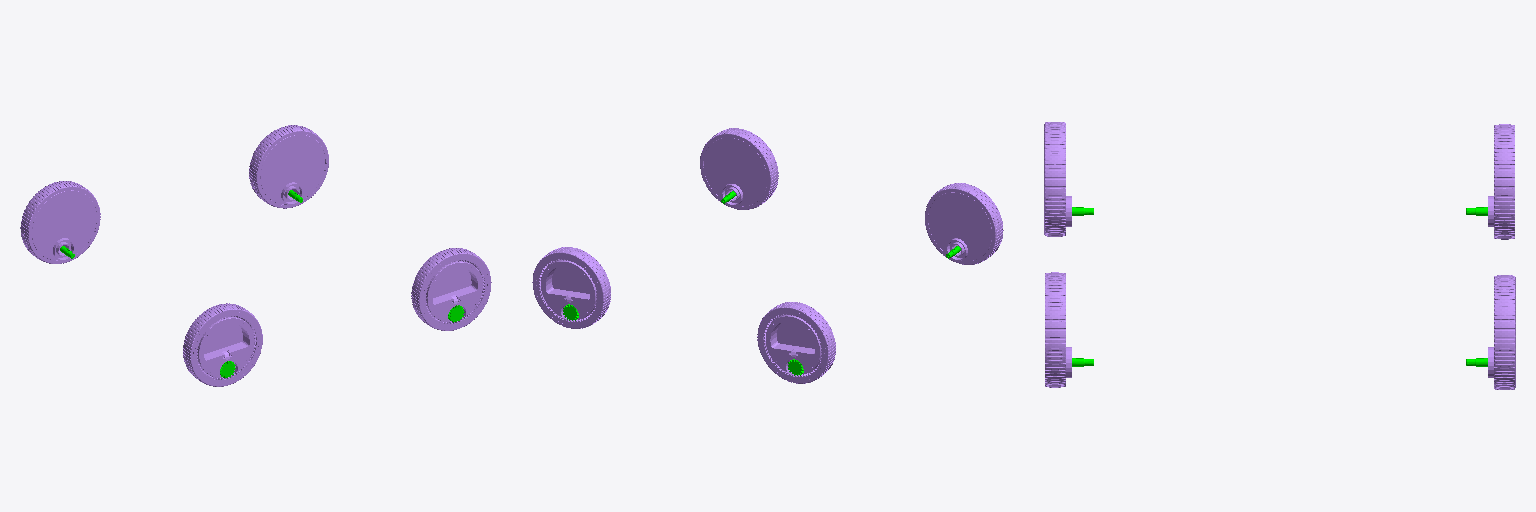
URDF robot description (ASSY):
<?xml version="1.0" encoding="utf-8"?>
<!-- This URDF was automatically created by SolidWorks to URDF Exporter! Originally created by Stephen Brawner (brawner@gmail.com) 
     Commit Version: 1.6.0-4-g7f85cfe  Build Version: 1.6.7995.38578
     For more information, please see http://wiki.ros.org/sw_urdf_exporter -->
<robot
  name="ASSY">
  <link
    name="base_link">
    <inertial>
      <origin
        xyz="-0.173677988702651 -1.33001645405301 0.127094960664252"
        rpy="0 0 0" />
      <mass
        value="4.36726752622247" />
      <inertia
        ixx="0.120130237589"
        ixy="2.47975488953441E-06"
        ixz="-3.27227207123414E-05"
        iyy="0.191286662671252"
        iyz="2.68102670008558E-10"
        izz="0.301245720968886" />
    </inertial>
    <visual>
      <origin
        xyz="0 0 0"
        rpy="0 0 0" />
      <geometry>
        <mesh
          filename="./meshes/base_link.STL" />
      </geometry>
      <material
        name="">
        <color
          rgba="0.894117647058823 0.894117647058823 0.894117647058823 1" />
      </material>
    </visual>
    <collision>
      <origin
        xyz="0 0 0"
        rpy="0 0 0" />
      <geometry>
        <mesh
          filename="./meshes/base_link.STL" />
      </geometry>
    </collision>
  </link>
  <link
    name="rear_left_wheel_link">
    <inertial>
      <origin
        xyz="0.000505290609487841 0.0115730269592083 0.00262595144799707"
        rpy="0 0 0" />
      <mass
        value="0.42269955285096" />
      <inertia
        ixx="0.000815542921585711"
        ixy="6.60524034039688E-07"
        ixz="3.86285448095543E-06"
        iyy="0.00159042388409674"
        iyz="3.46784877596443E-06"
        izz="0.000834325692195126" />
    </inertial>
    <visual>
      <origin
        xyz="0 0 0"
        rpy="0 0 0" />
      <geometry>
        <mesh
          filename="./meshes/rear_left_wheel_link.STL" />
      </geometry>
      <material
        name="">
        <color
          rgba="0.796078431372549 0.623529411764706 1 1" />
      </material>
    </visual>
    <collision>
      <origin
        xyz="0 0 0"
        rpy="0 0 0" />
      <geometry>
        <mesh
          filename="./meshes/rear_left_wheel_link.STL" />
      </geometry>
    </collision>
  </link>
  <joint
    name="rear_left_wheel_joint"
    type="continuous">
    <origin
      xyz="-0.34344 -1.0048 -0.061158"
      rpy="3.1416 0.27703 0" />
    <parent
      link="base_link" />
    <child
      link="rear_left_wheel_link" />
    <axis
      xyz="0 0 0" />
    <mimic
      joint="rear_left_pinion_joint"
      multiplier="1"
      offset="0" />
  </joint>
  <link
    name="rear_left_pinion_link">
    <inertial>
      <origin
        xyz="5.68499051833982E-07 7.63716316805052E-05 -0.014980570321381"
        rpy="0 0 0" />
      <mass
        value="0.011032733259644" />
      <inertia
        ixx="4.80829060566522E-06"
        ixy="-3.01977896111619E-11"
        ixz="1.64764447774519E-10"
        iyy="4.8095261776222E-06"
        iyz="-3.00538459560669E-08"
        izz="7.0424678545279E-07" />
    </inertial>
    <visual>
      <origin
        xyz="0 0 0"
        rpy="0 0 0" />
      <geometry>
        <mesh
          filename="./meshes/rear_left_pinion_link.STL" />
      </geometry>
      <material
        name="">
        <color
          rgba="0 1 0 1" />
      </material>
    </visual>
    <collision>
      <origin
        xyz="0 0 0"
        rpy="0 0 0" />
      <geometry>
        <mesh
          filename="./meshes/rear_left_pinion_link.STL" />
      </geometry>
    </collision>
  </link>
  <joint
    name="rear_left_pinion_joint"
    type="continuous">
    <origin
      xyz="-0.34769 -1.0078 -0.10897"
      rpy="1.5708 0.059958 -3.1416" />
    <parent
      link="base_link" />
    <child
      link="rear_left_pinion_link" />
    <axis
      xyz="0 0 0" />
  </joint>
  <link
    name="rear_right_wheel_link">
    <inertial>
      <origin
        xyz="0.000505290609487785 0.0115730269592078 0.00262595144799672"
        rpy="0 0 0" />
      <mass
        value="0.422699552850961" />
      <inertia
        ixx="0.00081554292158571"
        ixy="6.60524034039778E-07"
        ixz="3.86285448095634E-06"
        iyy="0.00159042388409674"
        iyz="3.4678487759639E-06"
        izz="0.000834325692195128" />
    </inertial>
    <visual>
      <origin
        xyz="0 0 0"
        rpy="0 0 0" />
      <geometry>
        <mesh
          filename="./meshes/rear_right_wheel_link.STL" />
      </geometry>
      <material
        name="">
        <color
          rgba="0.796078431372549 0.623529411764706 1 1" />
      </material>
    </visual>
    <collision>
      <origin
        xyz="0 0 0"
        rpy="0 0 0" />
      <geometry>
        <mesh
          filename="./meshes/rear_right_wheel_link.STL" />
      </geometry>
    </collision>
  </link>
  <joint
    name="rear_right_wheel_joint"
    type="continuous">
    <origin
      xyz="-0.35193 -1.6553 -0.061158"
      rpy="3.1416 0.27703 3.1416" />
    <parent
      link="base_link" />
    <child
      link="rear_right_wheel_link" />
    <axis
      xyz="0 0 0" />
    <mimic
      joint="rear_right_pinion_joint"
      multiplier="1"
      offset="0" />
  </joint>
  <link
    name="rear_right_pinion_link">
    <inertial>
      <origin
        xyz="5.68499051833982E-07 7.63716316804774E-05 -0.0149805703213808"
        rpy="0 0 0" />
      <mass
        value="0.011032733259644" />
      <inertia
        ixx="4.80829060566523E-06"
        ixy="-3.01977896111354E-11"
        ixz="1.6476444777162E-10"
        iyy="4.80952617762221E-06"
        iyz="-3.0053845956065E-08"
        izz="7.04246785452792E-07" />
    </inertial>
    <visual>
      <origin
        xyz="0 0 0"
        rpy="0 0 0" />
      <geometry>
        <mesh
          filename="./meshes/rear_right_pinion_link.STL" />
      </geometry>
      <material
        name="">
        <color
          rgba="0 1 0 1" />
      </material>
    </visual>
    <collision>
      <origin
        xyz="0 0 0"
        rpy="0 0 0" />
      <geometry>
        <mesh
          filename="./meshes/rear_right_pinion_link.STL" />
      </geometry>
    </collision>
  </link>
  <joint
    name="rear_right_pinion_joint"
    type="continuous">
    <origin
      xyz="-0.34769 -1.6523 -0.10897"
      rpy="1.5708 0.059958 0" />
    <parent
      link="base_link" />
    <child
      link="rear_right_pinion_link" />
    <axis
      xyz="0 0 0" />
  </joint>
  <link
    name="swing_Link">
    <inertial>
      <origin
        xyz="-0.0273355916599196 -0.0287903676176555 2.89047470403148E-08"
        rpy="0 0 0" />
      <mass
        value="1.44344385546095" />
      <inertia
        ixx="0.00529337280544807"
        ixy="-3.64864364493946E-06"
        ixz="-2.47940932052328E-06"
        iyy="0.00598687173593352"
        iyz="5.36206178033747E-10"
        izz="0.00290322324927834" />
    </inertial>
    <visual>
      <origin
        xyz="0 0 0"
        rpy="0 0 0" />
      <geometry>
        <mesh
          filename="./meshes/swing_Link.STL" />
      </geometry>
      <material
        name="">
        <color
          rgba="0.894117647058823 0.894117647058823 0.894117647058823 1" />
      </material>
    </visual>
    <collision>
      <origin
        xyz="0 0 0"
        rpy="0 0 0" />
      <geometry>
        <mesh
          filename="./meshes/swing_Link.STL" />
      </geometry>
    </collision>
  </link>
  <joint
    name="swing_joint"
    type="continuous">
    <origin
      xyz="0.15231 -1.33 0.02403"
      rpy="1.5708 0 0" />
    <parent
      link="base_link" />
    <child
      link="swing_Link" />
    <axis
      xyz="0 0 0" />
    <limit
      lower="0"
      upper="0"
      effort="0"
      velocity="0" />
  </joint>
  <link
    name="front_left_wheel_link">
    <inertial>
      <origin
        xyz="0.000505290609487868 0.011573026959208 0.00262595144799711"
        rpy="0 0 0" />
      <mass
        value="0.422699552850964" />
      <inertia
        ixx="0.000815542921585712"
        ixy="6.60524034037467E-07"
        ixz="3.86285448095665E-06"
        iyy="0.00159042388409675"
        iyz="3.46784877596432E-06"
        izz="0.000834325692195135" />
    </inertial>
    <visual>
      <origin
        xyz="0 0 0"
        rpy="0 0 0" />
      <geometry>
        <mesh
          filename="./meshes/front_left_wheel_link.STL" />
      </geometry>
      <material
        name="">
        <color
          rgba="0.796078431372549 0.623529411764706 1 1" />
      </material>
    </visual>
    <collision>
      <origin
        xyz="0 0 0"
        rpy="0 0 0" />
      <geometry>
        <mesh
          filename="./meshes/front_left_wheel_link.STL" />
      </geometry>
    </collision>
  </link>
  <joint
    name="front_left_wheel_joint"
    type="continuous">
    <origin
      xyz="0.0042466 -0.085188 -0.32525"
      rpy="1.5708 0 -0.27703" />
    <parent
      link="swing_Link" />
    <child
      link="front_left_wheel_link" />
    <axis
      xyz="0 0 0" />
    <mimic
      joint="front_left_pinion_joint"
      multiplier="1"
      offset="0" />
  </joint>
  <link
    name="front_left_pinion_link">
    <inertial>
      <origin
        xyz="5.68499051861737E-07 7.63716316805052E-05 -0.0149805703213808"
        rpy="0 0 0" />
      <mass
        value="0.0110327332596441" />
      <inertia
        ixx="4.80829060566525E-06"
        ixy="-3.01977896109501E-11"
        ixz="1.6476444779217E-10"
        iyy="4.80952617762223E-06"
        iyz="-3.00538459560686E-08"
        izz="7.04246785452799E-07" />
    </inertial>
    <visual>
      <origin
        xyz="0 0 0"
        rpy="0 0 0" />
      <geometry>
        <mesh
          filename="./meshes/front_left_pinion_link.STL" />
      </geometry>
      <material
        name="">
        <color
          rgba="0 1 0 1" />
      </material>
    </visual>
    <collision>
      <origin
        xyz="0 0 0"
        rpy="0 0 0" />
      <geometry>
        <mesh
          filename="./meshes/front_left_pinion_link.STL" />
      </geometry>
    </collision>
  </link>
  <joint
    name="front_left_pinion_joint"
    type="continuous">
    <origin
      xyz="0 -0.133 -0.32225"
      rpy="3.1416 0 -3.0816" />
    <parent
      link="swing_Link" />
    <child
      link="front_left_pinion_link" />
    <axis
      xyz="0 0 0" />
  </joint>
  <link
    name="front_right_wheel_link">
    <inertial>
      <origin
        xyz="0.000505290609487896 0.011573026959208 0.00262595144799699"
        rpy="0 0 0" />
      <mass
        value="0.422699552850966" />
      <inertia
        ixx="0.000815542921585718"
        ixy="6.60524034035726E-07"
        ixz="3.86285448095394E-06"
        iyy="0.00159042388409675"
        iyz="3.46784877596481E-06"
        izz="0.000834325692195138" />
    </inertial>
    <visual>
      <origin
        xyz="0 0 0"
        rpy="0 0 0" />
      <geometry>
        <mesh
          filename="./meshes/front_right_wheel_link.STL" />
      </geometry>
      <material
        name="">
        <color
          rgba="0.796078431372549 0.623529411764706 1 1" />
      </material>
    </visual>
    <collision>
      <origin
        xyz="0 0 0"
        rpy="0 0 0" />
      <geometry>
        <mesh
          filename="./meshes/front_right_wheel_link.STL" />
      </geometry>
    </collision>
  </link>
  <joint
    name="front_right_wheel_joint"
    type="continuous">
    <origin
      xyz="-0.0042466 -0.085188 0.32525"
      rpy="-1.5708 0 -2.8646" />
    <parent
      link="swing_Link" />
    <child
      link="front_right_wheel_link" />
    <axis
      xyz="0 0 0" />
    <mimic
      joint="front_right_pinion_joint"
      multiplier="1"
      offset="0" />
  </joint>
  <link
    name="front_right_pinion_link">
    <inertial>
      <origin
        xyz="5.68499051889493E-07 7.63716316805052E-05 -0.0149805703213812"
        rpy="0 0 0" />
      <mass
        value="0.011032733259644" />
      <inertia
        ixx="4.80829060566523E-06"
        ixy="-3.01977896117177E-11"
        ixz="1.64764447804069E-10"
        iyy="4.80952617762221E-06"
        iyz="-3.00538459560664E-08"
        izz="7.04246785452794E-07" />
    </inertial>
    <visual>
      <origin
        xyz="0 0 0"
        rpy="0 0 0" />
      <geometry>
        <mesh
          filename="./meshes/front_right_pinion_link.STL" />
      </geometry>
      <material
        name="">
        <color
          rgba="0 1 0 1" />
      </material>
    </visual>
    <collision>
      <origin
        xyz="0 0 0"
        rpy="0 0 0" />
      <geometry>
        <mesh
          filename="./meshes/front_right_pinion_link.STL" />
      </geometry>
    </collision>
  </link>
  <joint
    name="front_right_pinion_joint"
    type="continuous">
    <origin
      xyz="0 -0.133 0.32225"
      rpy="0 0 -0.059958" />
    <parent
      link="swing_Link" />
    <child
      link="front_right_pinion_link" />
    <axis
      xyz="0 0 0" />
  </joint>
</robot>

--- Facts derived from the render (not from the file) ---
3 views of the same robot in one strip: view 1: azimuth 30°, elevation 25°; view 2: azimuth 150°, elevation 25°; view 3: azimuth 270°, elevation 25° (orthographic).
Robot: ASSY — 10 links, 9 joints (9 continuous); root link base_link; default pose: every joint at zero.
Links seen in each view (by area): view 1: rear_left_wheel_link, front_left_wheel_link, rear_right_wheel_link, front_right_wheel_link; view 2: rear_right_wheel_link, front_right_wheel_link, front_left_wheel_link, rear_left_wheel_link; view 3: rear_right_wheel_link, front_left_wheel_link, rear_left_wheel_link, front_right_wheel_link.
Link boxes in pixels (x1,y1,x2,y2): rear_left_wheel_link: (20, 181, 100, 263); front_left_wheel_link: (249, 125, 328, 208); rear_right_wheel_link: (183, 303, 262, 386); front_right_wheel_link: (411, 248, 491, 330); rear_right_wheel_link: (925, 183, 1003, 264); front_right_wheel_link: (700, 128, 778, 209); front_left_wheel_link: (532, 247, 610, 328); rear_left_wheel_link: (757, 302, 835, 383); rear_right_wheel_link: (1044, 122, 1071, 236); front_left_wheel_link: (1488, 275, 1515, 389); rear_left_wheel_link: (1488, 124, 1514, 239); front_right_wheel_link: (1045, 272, 1071, 387).
Size in the robot's own frame: 0.6702 by 0.6601 by 0.1618 metres.
8 mesh visuals loaded from 10 distinct referenced files (8 binary STL); not drawn: 2 (reference not matched to a file when rendering).
